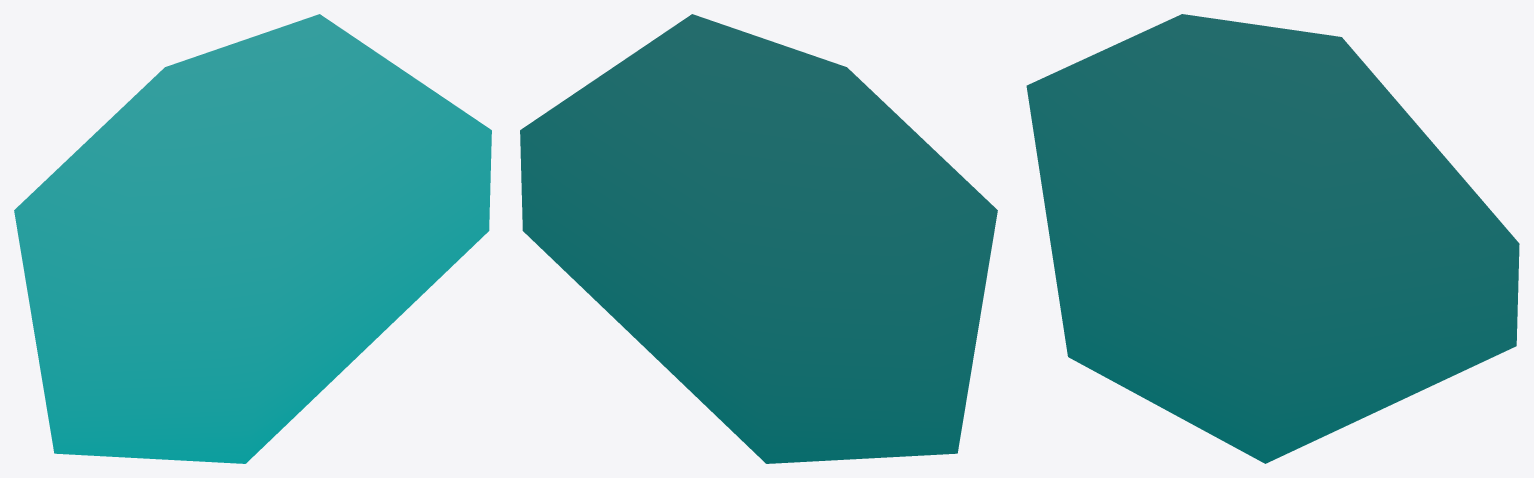
Rendered from Lemon_Balm_umslacdia_Mid_umslacdia_VarD_LOD3.fbx.
3 views of the same model, side by side, from view 1: azimuth 30°, elevation 25°; view 2: azimuth 150°, elevation 25°; view 3: azimuth 330°, elevation 25° (orthographic). The views are drawn at different scales.
Visible parts, largest first — view 1: _hl5m_VarD_LOD5; view 2: _hl5m_VarD_LOD5; view 3: _hl5m_VarD_LOD5.
Part boxes in pixels (<box>): _hl5m_VarD_LOD5: <box>14,14,491,463</box>; _hl5m_VarD_LOD5: <box>520,14,997,463</box>; _hl5m_VarD_LOD5: <box>1026,14,1519,463</box>.
Size of the model in its own units: 49.06 by 42.37 by 0.
